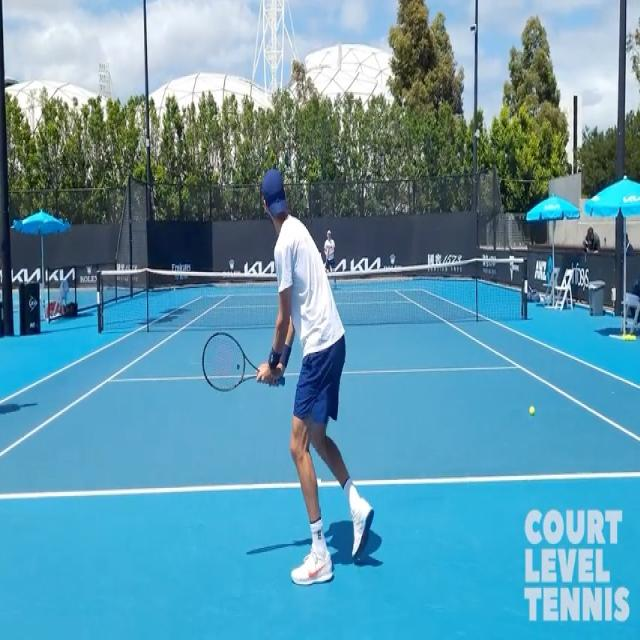backhand-ready: (204, 166, 378, 594)
